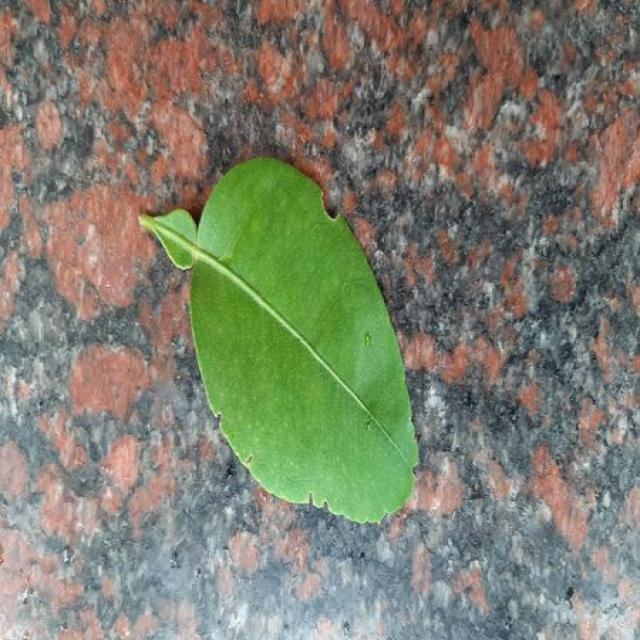lemon: (138, 158, 418, 522)
